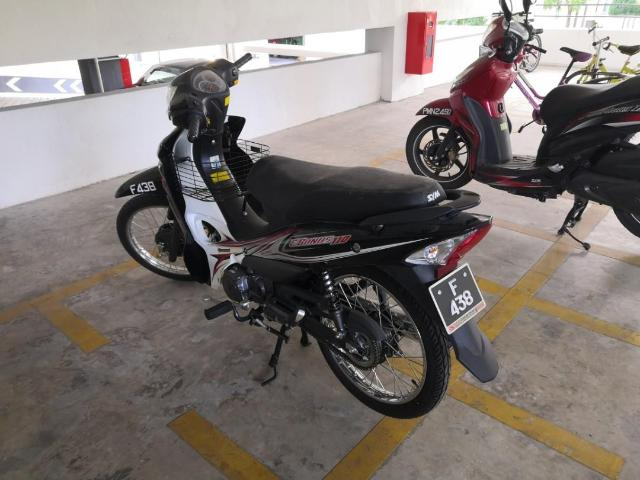License_Plate: (429, 264, 488, 337), (128, 179, 161, 197), (422, 106, 454, 119)
motorcycle: (115, 53, 500, 420), (406, 2, 640, 247)
